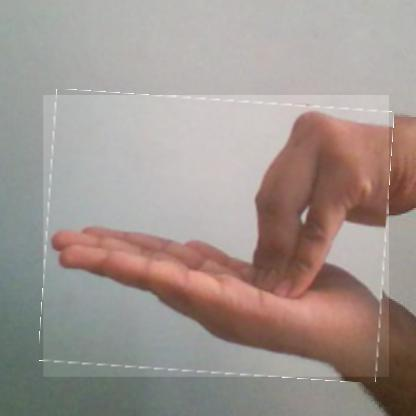Z: (42, 95, 389, 378)
